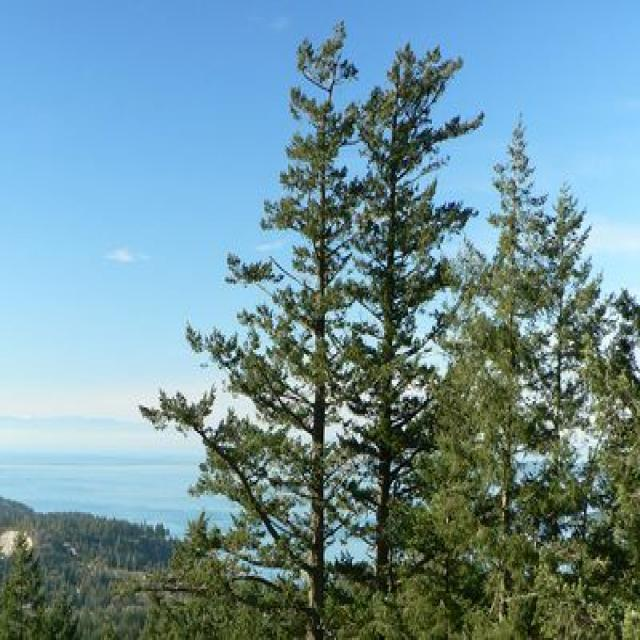Pseudotsuga menziesii: (137, 19, 386, 640)
